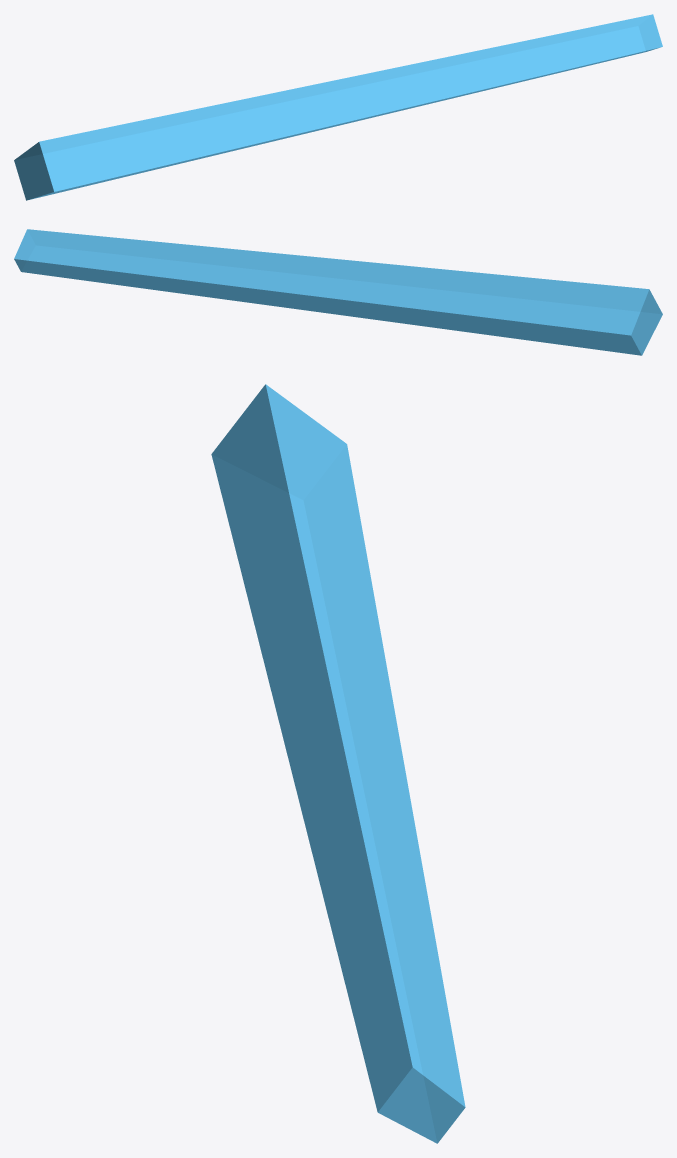
Rendered from Event_420604493_HErechit_35.fbx.
The picture shows the model from 3 angles, top to bottom: view 1: azimuth 30°, elevation 25°; view 2: azimuth 150°, elevation 25°; view 3: azimuth 270°, elevation 25°; orthographic projection. The views are drawn at different scales.
Visible parts, largest first — view 1: Model; view 2: Model; view 3: Model.
Part boxes in pixels (x1,y1,x2,y2): Model: (14, 14, 662, 200); Model: (14, 229, 662, 355); Model: (211, 384, 465, 1143).
Size of the model in its own units: 5.86 by 0.8973 by 1.1.
